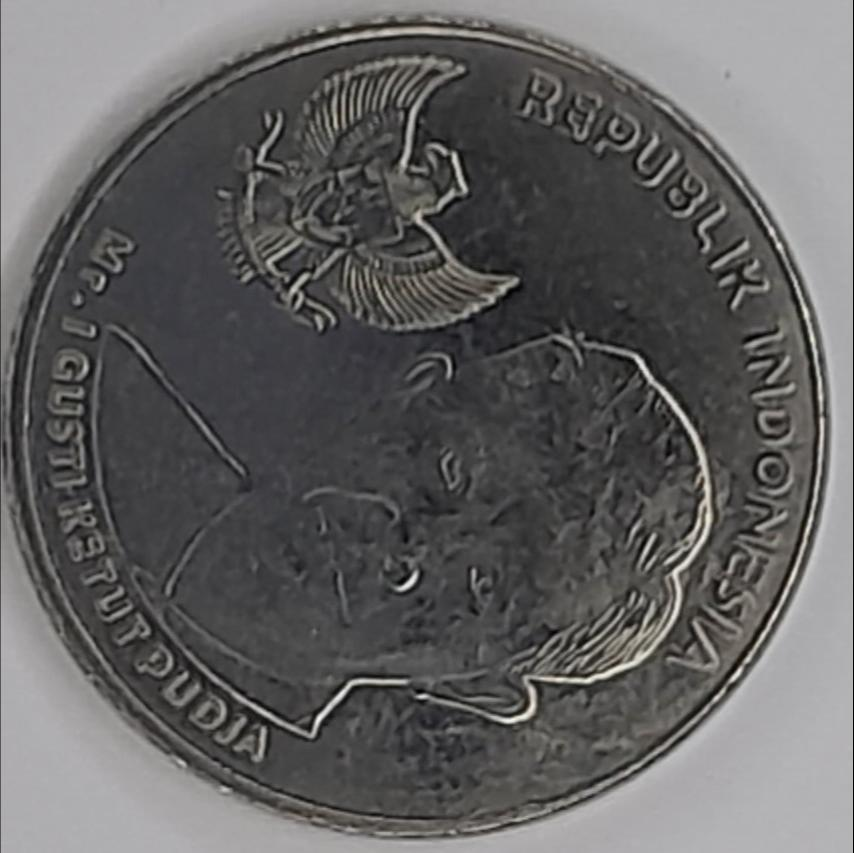coin_1000_e2016: (15, 17, 843, 853)
